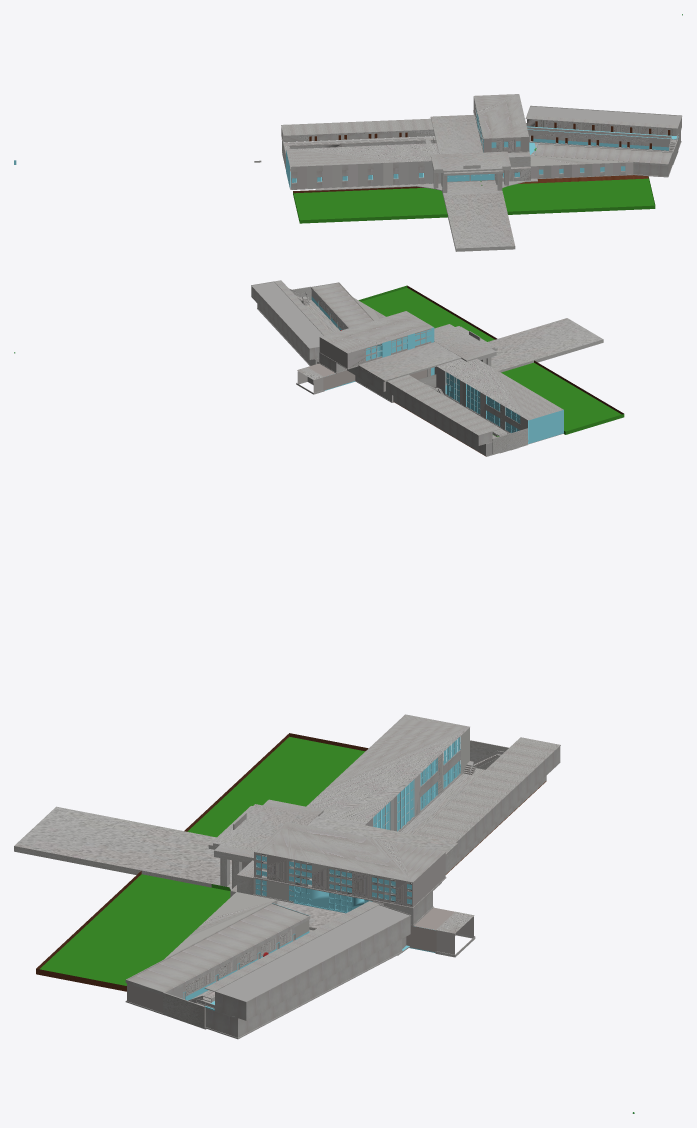
Rendered from DepartementIA..gltf.
3 views of the same model, one above another, from view 1: azimuth 30°, elevation 25°; view 2: azimuth 150°, elevation 25°; view 3: azimuth 270°, elevation 25° (orthographic). The views are drawn at different scales.
Visible parts, largest first — view 1: building_134.005; view 2: building_134.005; view 3: building_134.005.
Part boxes in pixels (x1=…): building_134.005: x1=14, y1=94, x2=682, y2=251; building_134.005: x1=251, y1=280, x2=624, y2=456; building_134.005: x1=14, y1=714, x2=560, y2=1039.
Bounding box in the file's own units: 480 × 28.6 × 248.
Materials: 10 (10 with a texture image).
